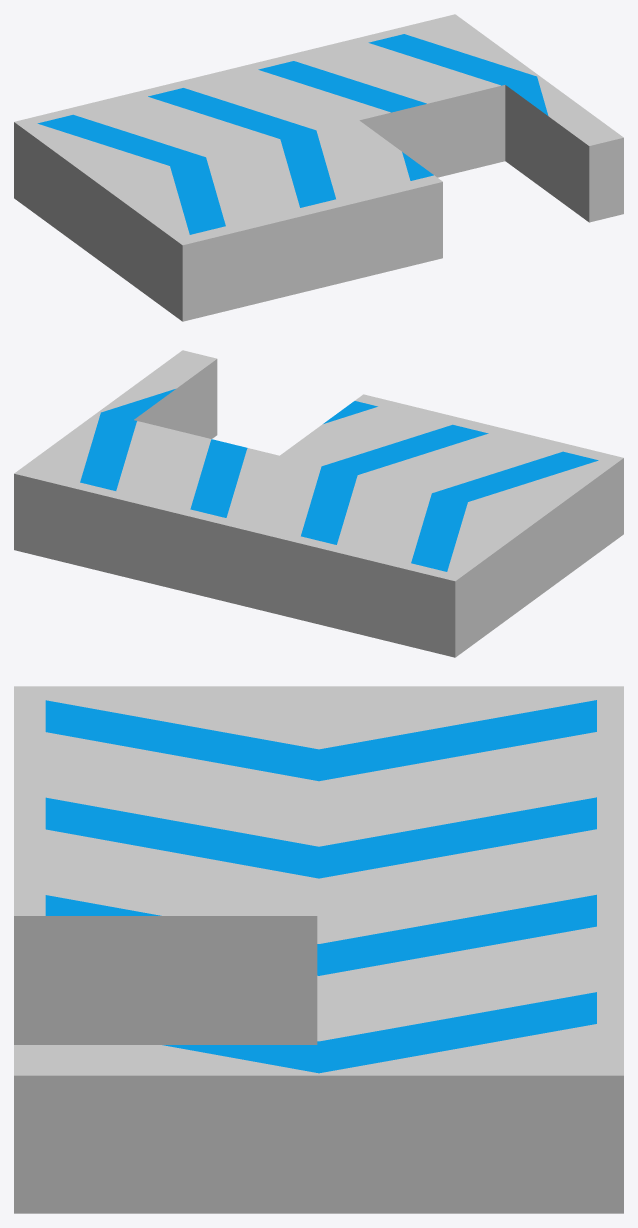
Rendered from platformgapright.fbx.
3 views of the same model, one above another, from view 1: azimuth 30°, elevation 25°; view 2: azimuth 150°, elevation 25°; view 3: azimuth 270°, elevation 25° (orthographic). The views are drawn at different scales.
Parts seen in each view (by area): view 1: bridge hole right; view 2: bridge hole right; view 3: bridge hole right.
Part boxes in pixels (bbox=[...]): bridge hole right: bbox=[14, 14, 623, 321]; bridge hole right: bbox=[14, 350, 623, 657]; bridge hole right: bbox=[14, 686, 623, 1213].
Size of the model in its own units: 604 by 100 by 400.
